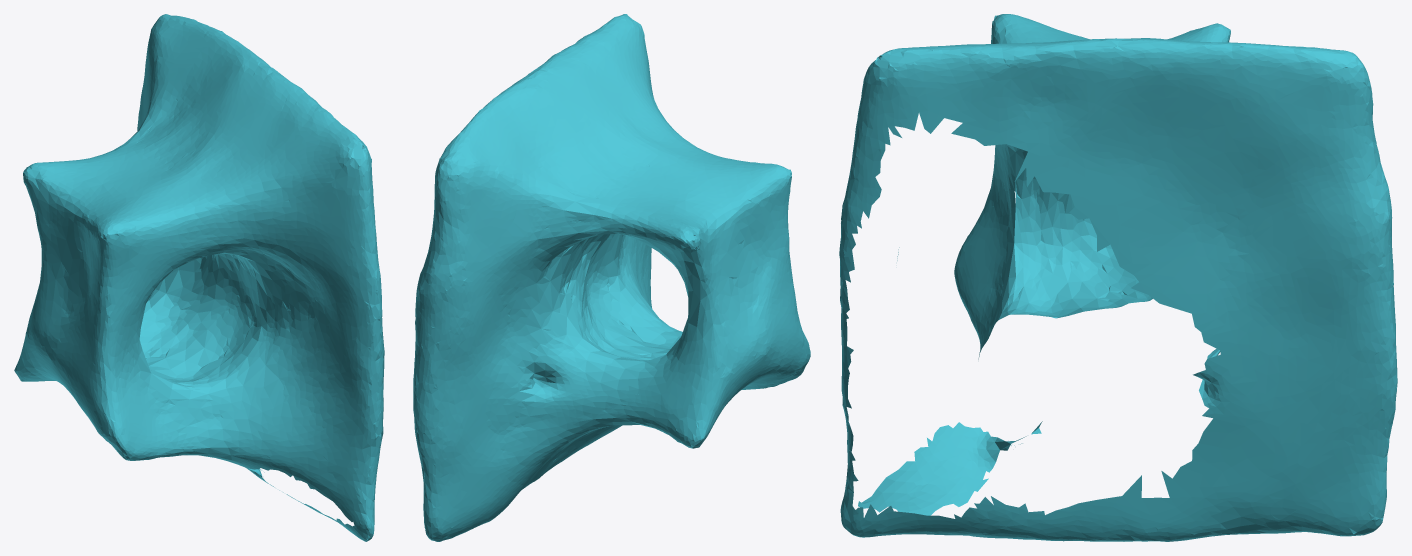
3 views of the same model, side by side, from view 1: azimuth 30°, elevation 25°; view 2: azimuth 150°, elevation 25°; view 3: azimuth 270°, elevation 25° (orthographic). The views are drawn at different scales.
Visible parts, largest first — view 1: Renderer Node; view 2: Renderer Node; view 3: Renderer Node.
Boxes of the visible parts, x1,y1,x2,y2 form: Renderer Node: [14, 14, 384, 541]; Renderer Node: [413, 14, 810, 541]; Renderer Node: [839, 14, 1397, 541].
Size of the model in its own units: 0.396 by 0.6295 by 0.6324.
1 material, 1 textured.
